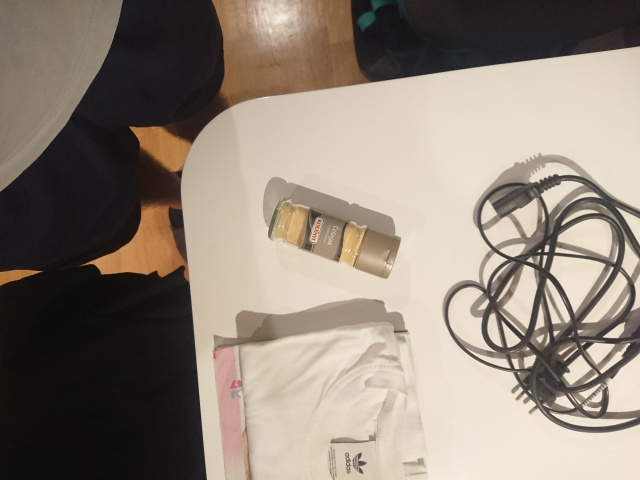Kotanyi Garlic Granules 70g: (265, 195, 404, 282)
